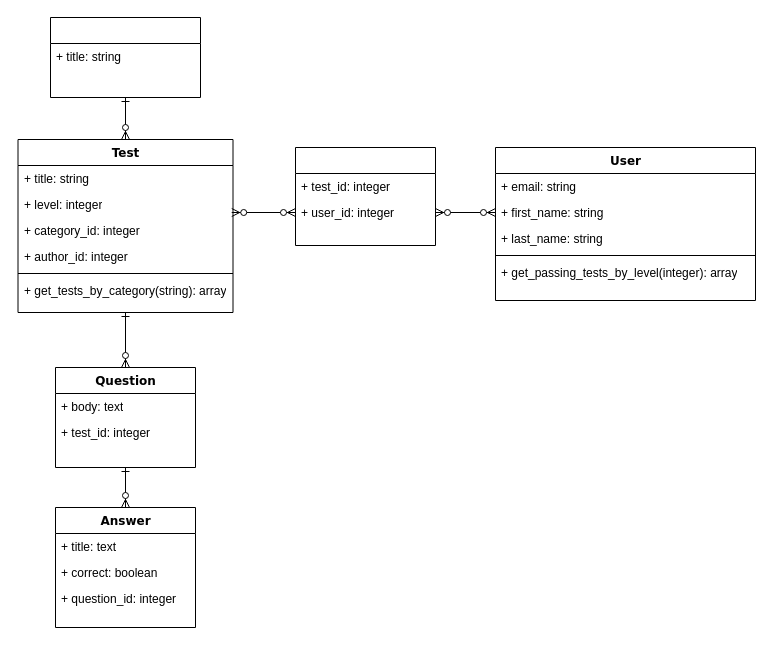
The diagram is 773 pixels wide and 645 high, and some of its shapes have lost their labels. Each missing label, with the box of its shape:
Category: (50, 16, 200, 98)
TestPassages: (294, 146, 436, 246)
